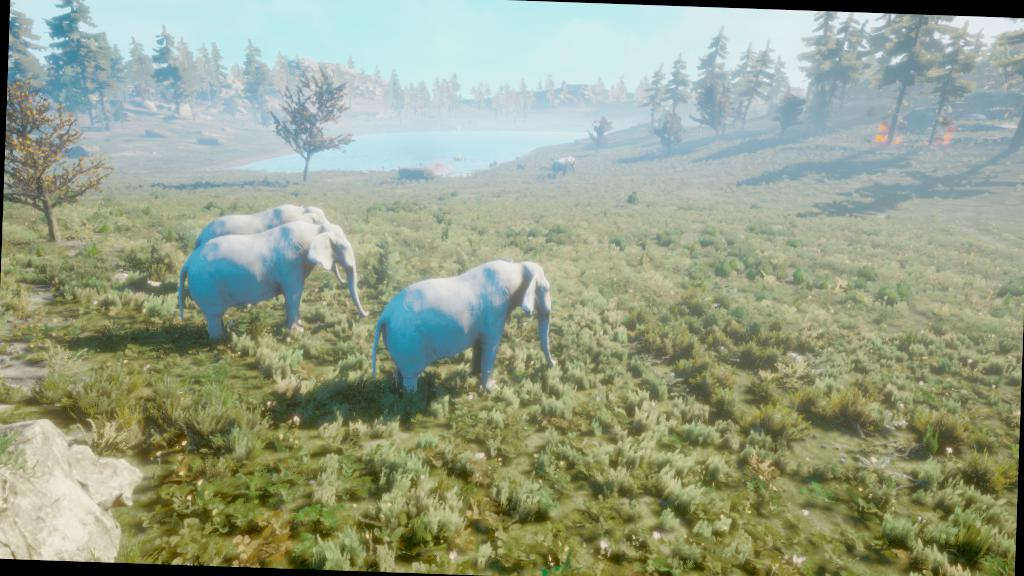Fire: (924, 108, 964, 158), (865, 113, 910, 151)
elephant: (364, 248, 566, 416), (165, 215, 372, 350), (538, 150, 586, 184)
